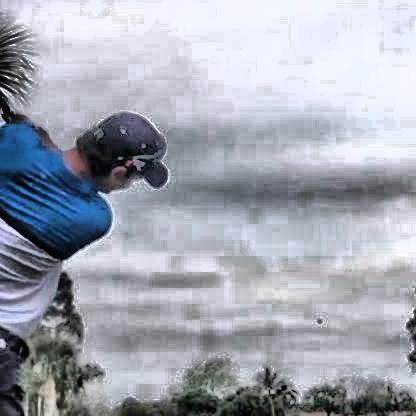golfball: (314, 315, 324, 324)
